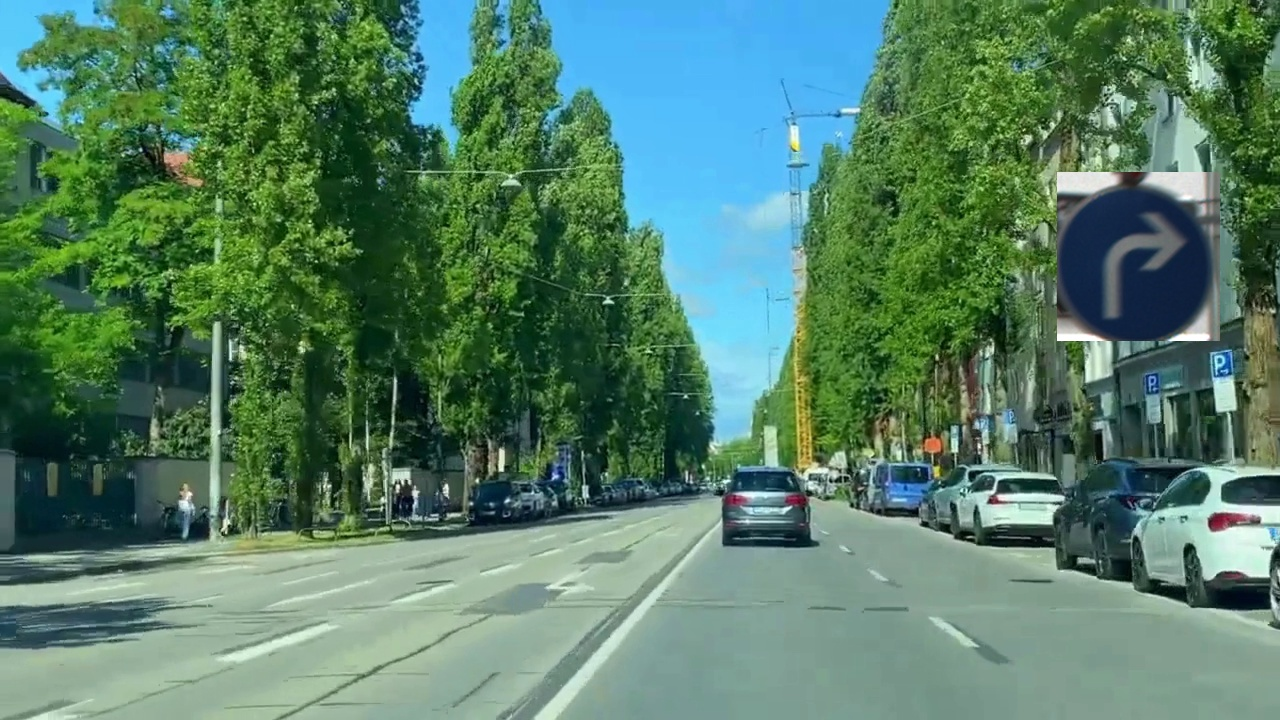Turn right: (1057, 172, 1220, 341)
